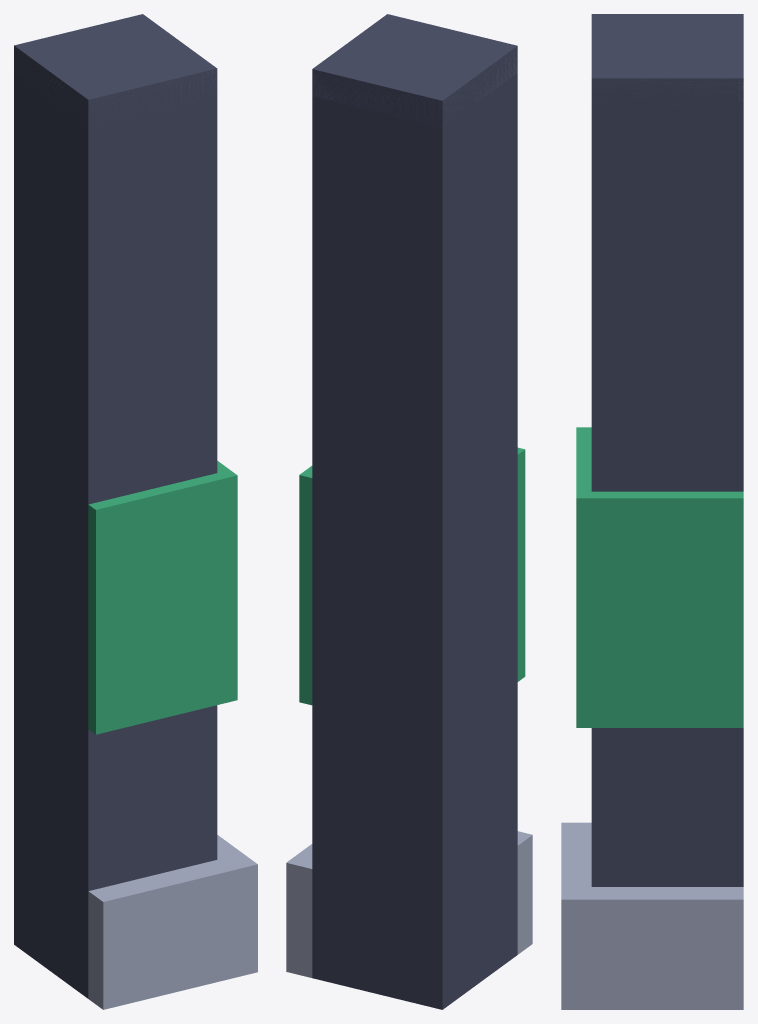
The model's file is wall-corner.glb.
3 views of the same model, side by side, from view 1: azimuth 30°, elevation 25°; view 2: azimuth 150°, elevation 25°; view 3: azimuth 270°, elevation 25° (orthographic). The views are drawn at different scales.
Parts seen in each view (by area): view 1: wall-corner; view 2: wall-corner; view 3: wall-corner.
Boxes of the visible parts, x1=… form: wall-corner: x1=14, y1=14, x2=257, y2=1009; wall-corner: x1=286, y1=14, x2=532, y2=1009; wall-corner: x1=561, y1=14, x2=743, y2=1009.
Size of the model in its own units: 0.18 by 1 by 0.18.
Materials: 1 (1 with a texture image).
